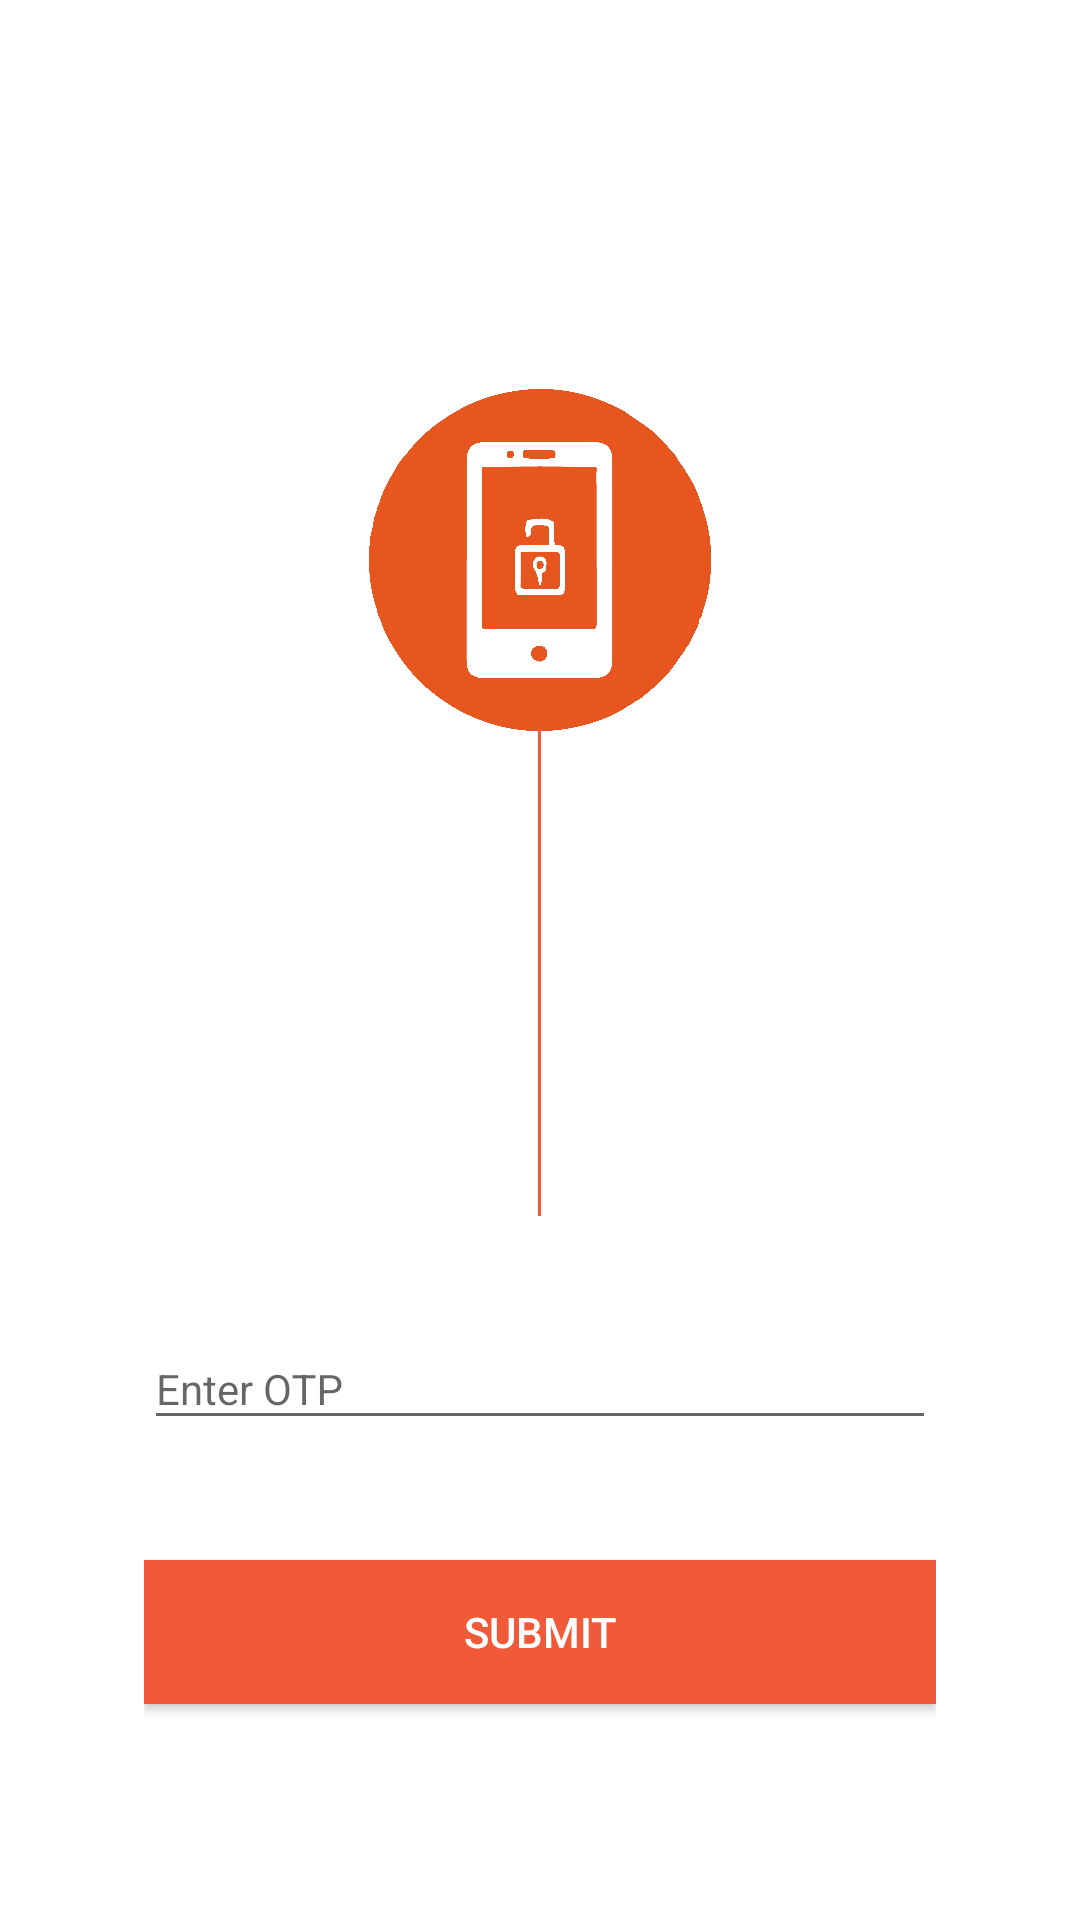

Point at icon controls on the screen. Image size 1080x1920, points as (x,y).
art auth: (540,561)
